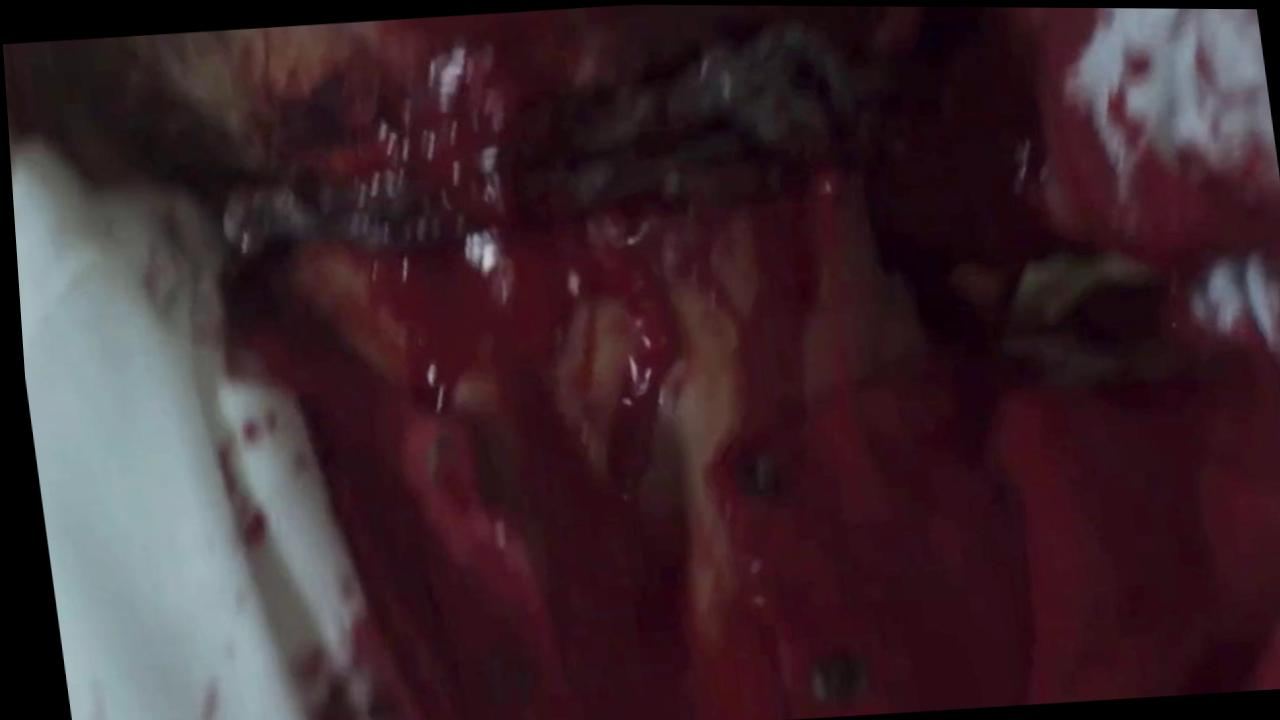Fire: (2, 4, 1280, 720), (209, 431, 345, 720), (1248, 610, 1280, 686), (234, 417, 253, 441)
